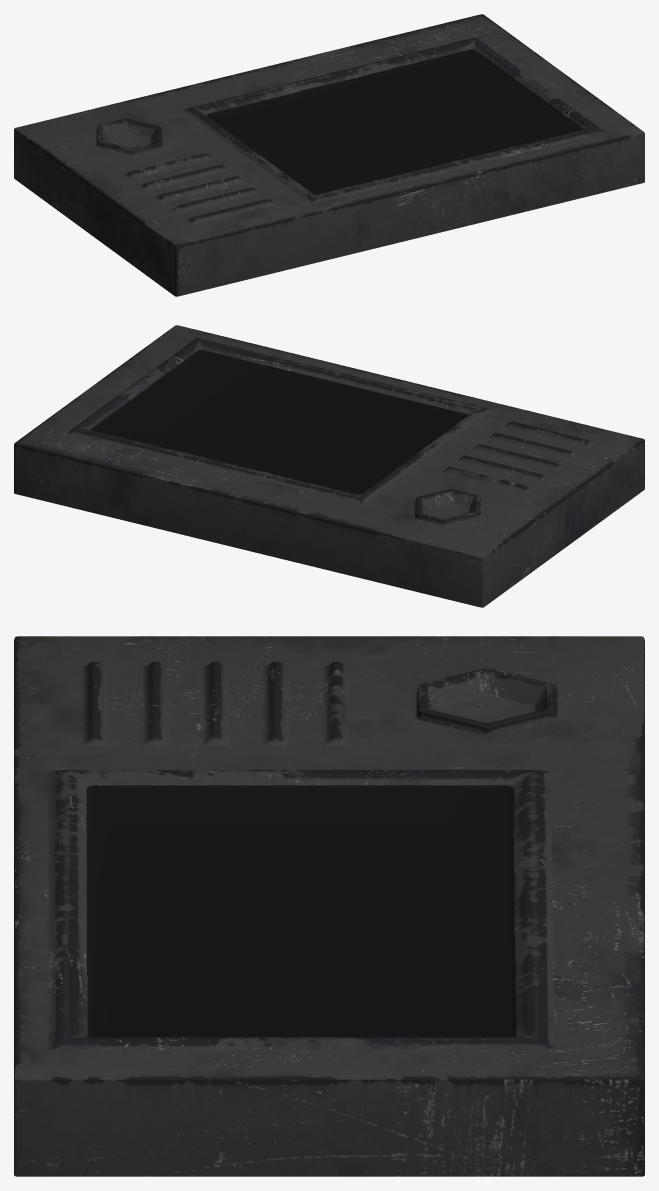
File: console.gltf
3 views of the same model, one above another, from view 1: azimuth 30°, elevation 25°; view 2: azimuth 150°, elevation 25°; view 3: azimuth 270°, elevation 25° (orthographic). The views are drawn at different scales.
Visible parts, largest first — view 1: console; view 2: console; view 3: console.
Part boxes in pixels (<box>): console: <box>14,14,644,296</box>; console: <box>14,325,644,607</box>; console: <box>14,636,644,1176</box>.
Size of the model in its own units: 0.5 by 0.0562 by 0.3.
1 material, 1 textured.
